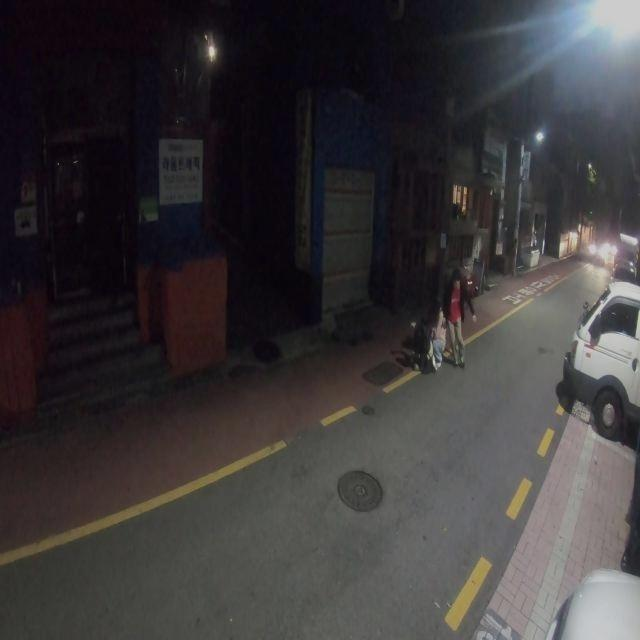fight: (401, 266, 481, 374)
